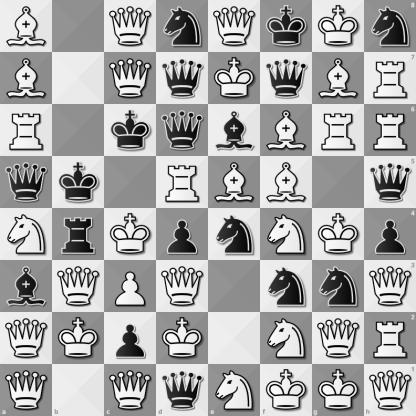B: (1, 1, 52, 52), (1, 53, 52, 104), (209, 157, 260, 208), (261, 105, 312, 156), (261, 157, 312, 208), (313, 53, 364, 104)
K: (260, 364, 312, 416), (312, 364, 364, 416), (53, 313, 104, 364), (105, 209, 156, 260), (157, 313, 208, 364), (209, 53, 260, 104), (313, 1, 364, 52), (313, 209, 364, 260)
N: (209, 364, 260, 416), (1, 209, 52, 260), (261, 209, 312, 260), (261, 313, 312, 364)
P: (105, 261, 156, 312)
Q: (0, 364, 52, 416), (104, 364, 156, 416), (364, 260, 416, 312), (364, 364, 416, 416), (1, 313, 52, 364), (53, 261, 104, 312), (105, 1, 156, 52), (105, 53, 156, 104), (157, 261, 208, 312), (209, 1, 260, 52), (313, 313, 364, 364)
R: (364, 52, 416, 104), (364, 104, 416, 156), (364, 312, 416, 364), (1, 105, 52, 156), (157, 157, 208, 208), (313, 105, 364, 156)
b: (1, 261, 52, 312), (209, 105, 260, 156)
board: (0, 0, 415, 415)
k: (53, 157, 104, 208), (105, 105, 156, 156), (261, 1, 312, 52)
n: (364, 0, 416, 52), (157, 1, 208, 52), (209, 209, 260, 260), (261, 261, 312, 312), (313, 261, 364, 312)
p: (364, 209, 416, 260), (105, 313, 156, 364), (157, 209, 208, 260)
q: (156, 364, 209, 416), (364, 156, 416, 209), (1, 157, 52, 208), (157, 53, 208, 104), (157, 105, 208, 156), (261, 53, 312, 104)
r: (53, 209, 104, 260)
